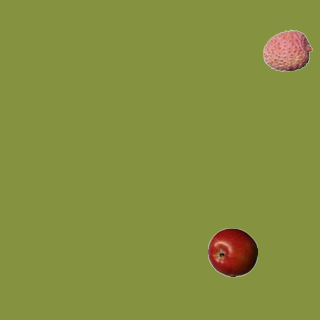Apple Braeburn: (207, 227, 257, 277)
Lychee: (262, 25, 312, 75)
